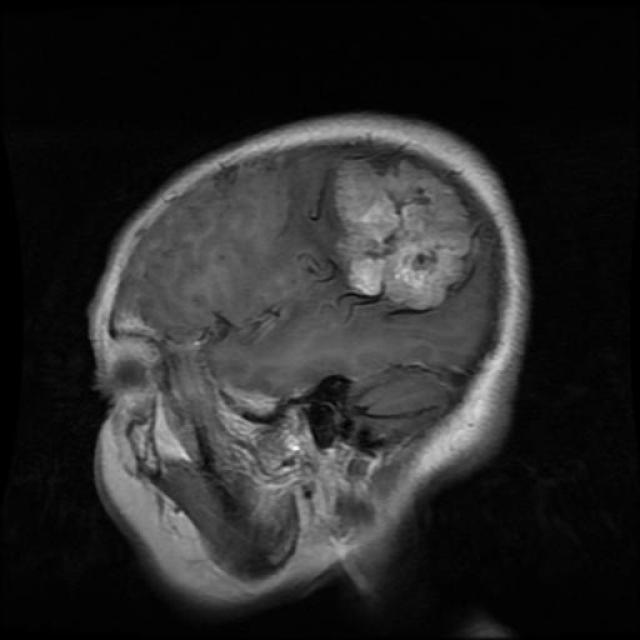Brain-Tumor: (311, 129, 487, 317)
